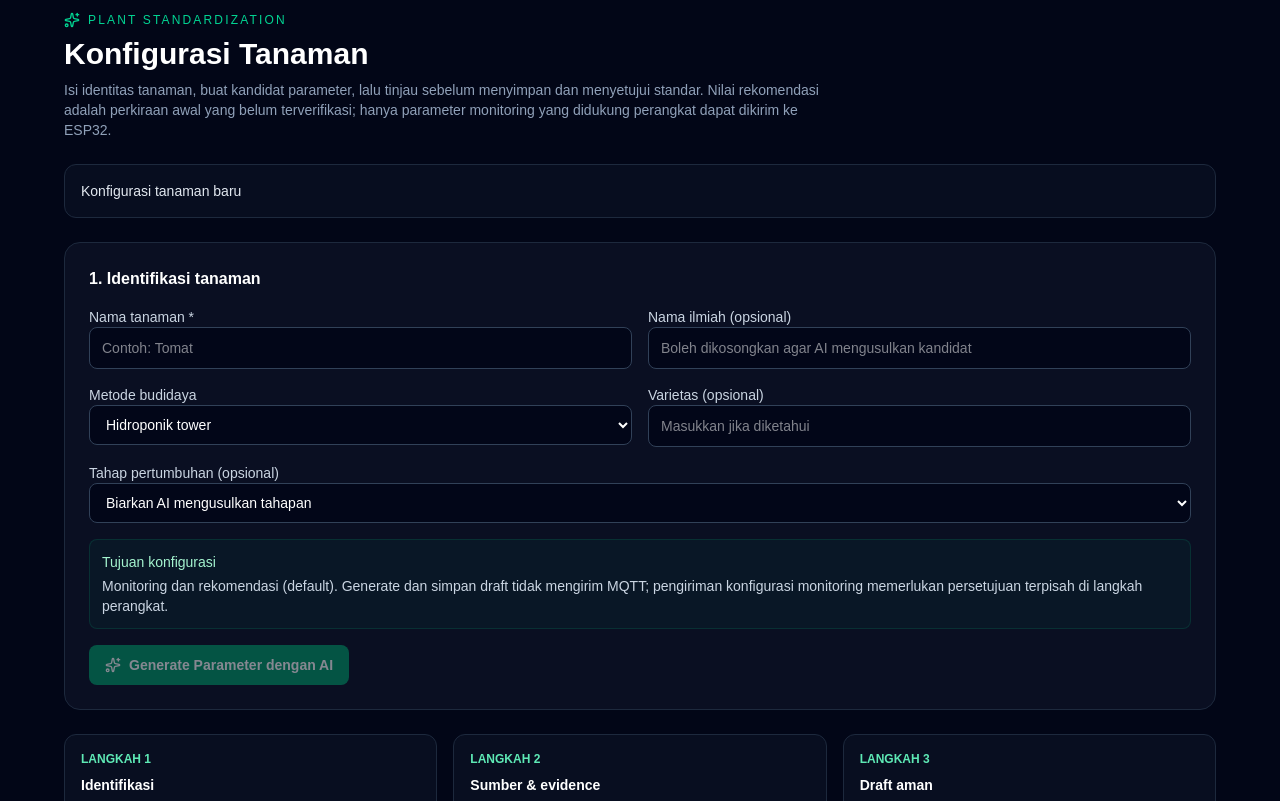
it: AI Plant Setup page › explains usage limits without exposing provider or credential details
In the field labelled "Nama tanaman *": (360, 348) [89,327,632,369], type "Tomat"
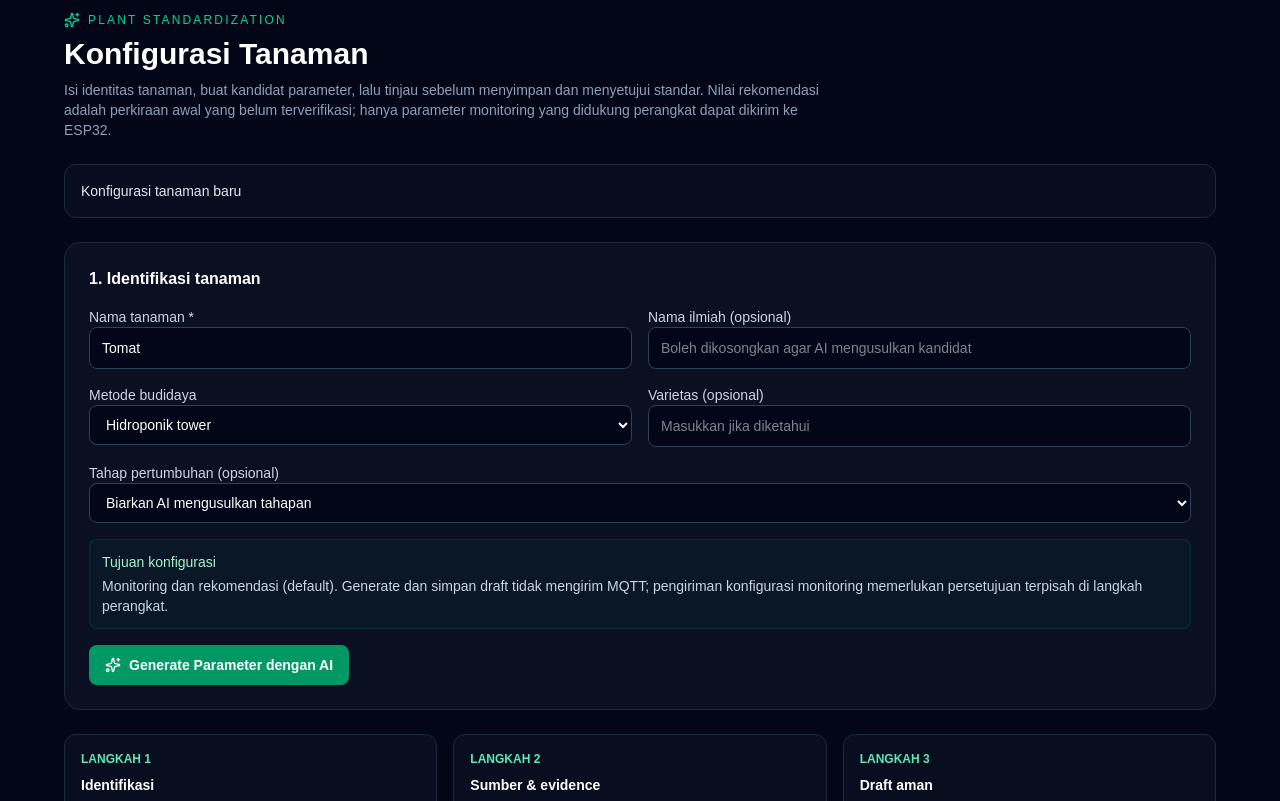
Click the button "Generate Parameter dengan AI": (219, 665) [89,645,349,685]
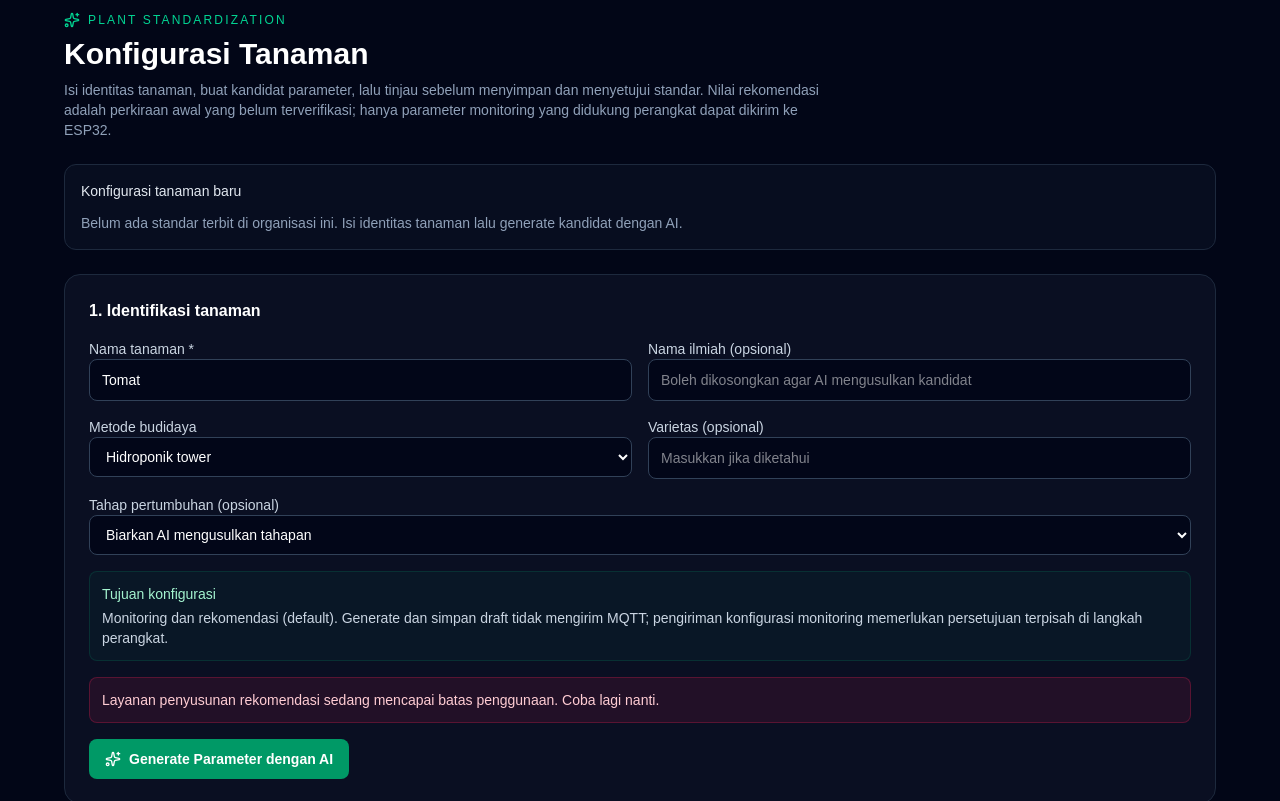
Expected: the message shows "sedang mencapai batas penggunaan", [102,692,659,708]
